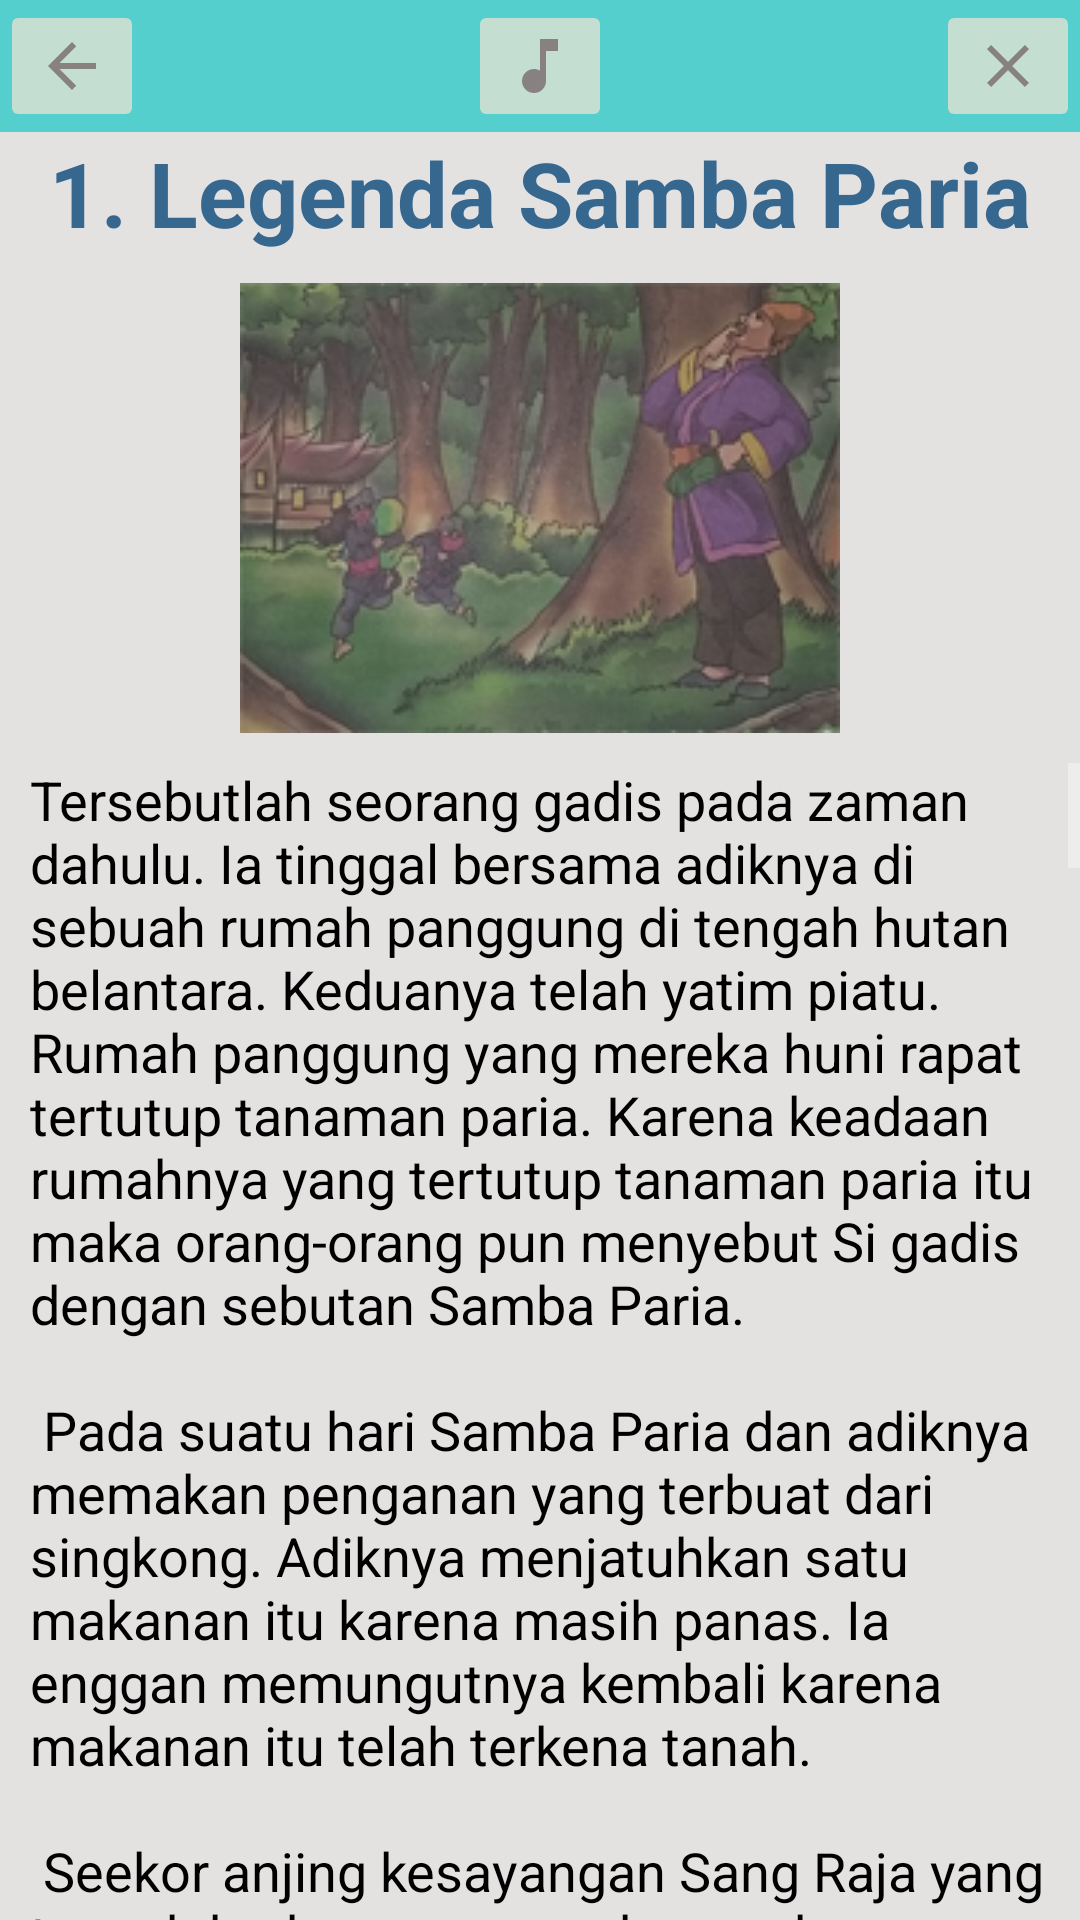

Icons on this 1080 x 1920 Android screen, each with its box as (x1, y1, x2, y2):
arrow back: (12, 18, 132, 114)
close: (948, 18, 1068, 114)
music note: (480, 18, 600, 114)
